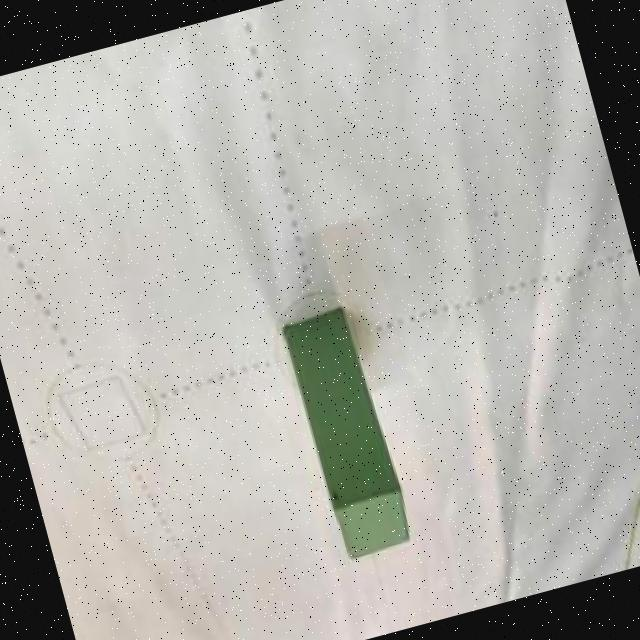greenbox: (277, 304, 417, 567)
